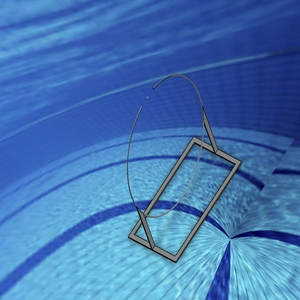circle: (124, 72, 243, 262)
